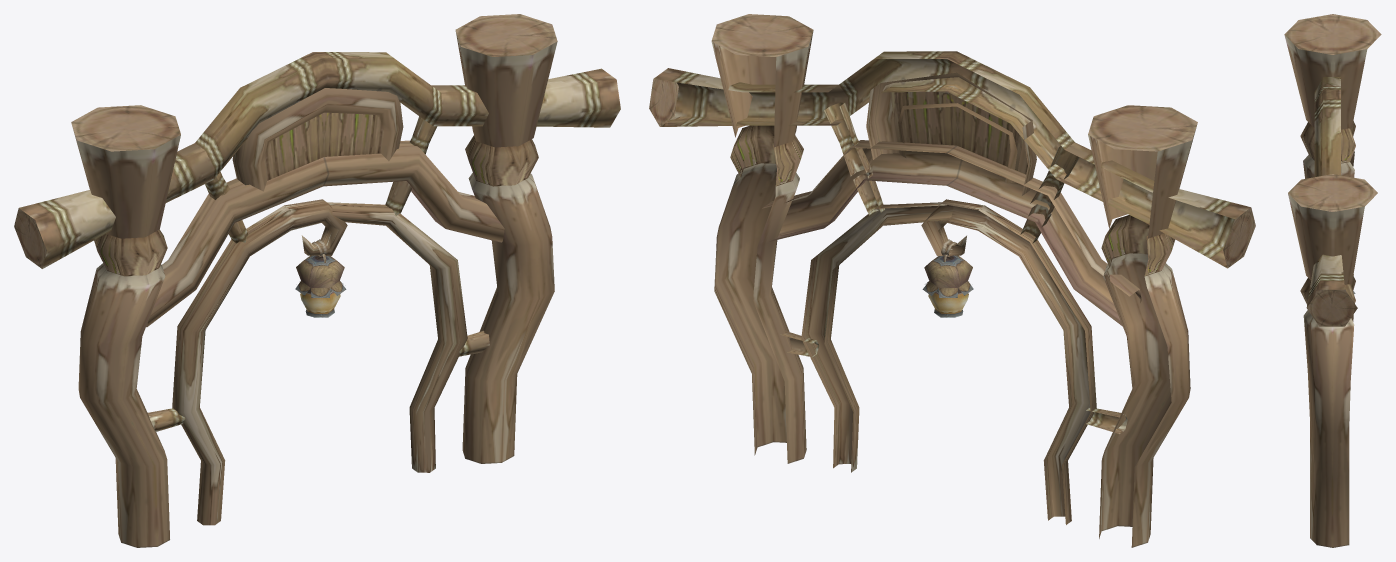
The model's file is Map_04_wooden07.FBX.
3 renders of one model, left to right at view 1: azimuth 30°, elevation 25°; view 2: azimuth 150°, elevation 25°; view 3: azimuth 270°, elevation 25°, orthographic. The views are drawn at different scales.
Visible parts, largest first — view 1: Map_04_wooden07; view 2: Map_04_wooden07; view 3: Map_04_wooden07.
Boxes of the visible parts, x1,y1,x2,y2 form: Map_04_wooden07: (14, 14, 620, 547); Map_04_wooden07: (649, 14, 1255, 547); Map_04_wooden07: (1284, 14, 1381, 547).
Bounding box in the file's own units: 75.58 × 54.48 × 12.8.
